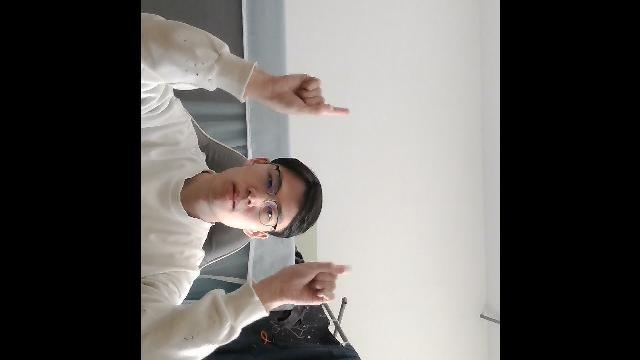one: (248, 63, 356, 124)
